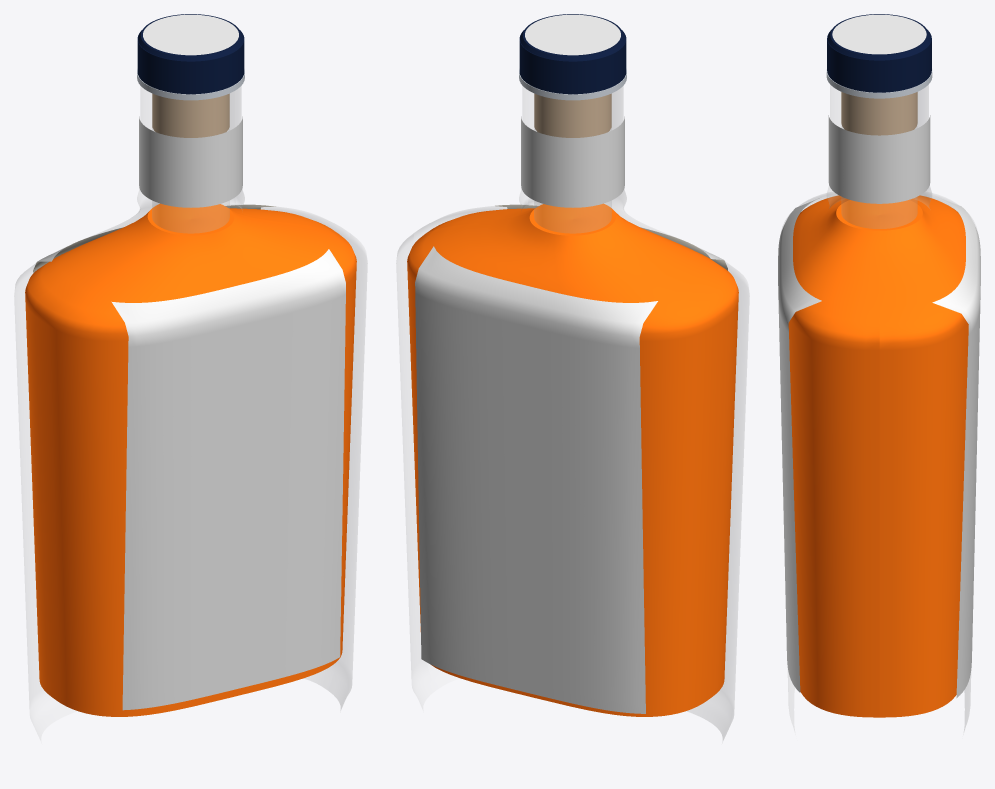
The model's file is patiyala-palace-bottle.glb.
3 views of the same model, side by side, from view 1: azimuth 30°, elevation 25°; view 2: azimuth 150°, elevation 25°; view 3: azimuth 270°, elevation 25° (orthographic). The views are drawn at different scales.
Parts seen in each view (by area): view 1: Front_Label, Whisky_Liquid, Bottle_Glass, Neck_Label, Bottle_Cap, Cap_Crown, Cork_Stopper, Bottle_Cap_Top, Cap_Silver_Rim; view 2: Back_Label, Whisky_Liquid, Bottle_Glass, Neck_Label, Bottle_Cap, Cap_Crown, Cork_Stopper, Bottle_Cap_Top, Cap_Silver_Rim; view 3: Whisky_Liquid, Back_Label, Neck_Label, Bottle_Glass, Front_Label, Bottle_Cap, Cap_Crown, Cork_Stopper, Bottle_Cap_Top, Cap_Silver_Rim.
Part boxes in pixels (x1,y1,x2,y2): Front_Label: (111, 249, 345, 710); Whisky_Liquid: (25, 203, 356, 716); Bottle_Glass: (14, 86, 367, 739); Neck_Label: (139, 116, 242, 207); Bottle_Cap: (137, 30, 244, 94); Cap_Crown: (143, 14, 238, 55); Cork_Stopper: (152, 93, 229, 137); Bottle_Cap_Top: (138, 14, 243, 61); Cap_Silver_Rim: (137, 69, 244, 100); Back_Label: (415, 246, 657, 713); Whisky_Liquid: (407, 203, 738, 716); Bottle_Glass: (396, 86, 749, 739); Neck_Label: (521, 116, 624, 207); Bottle_Cap: (519, 30, 626, 94); Cap_Crown: (525, 14, 620, 55); Cork_Stopper: (534, 93, 611, 137); Bottle_Cap_Top: (520, 14, 625, 61); Cap_Silver_Rim: (519, 69, 626, 100); Whisky_Liquid: (788, 195, 968, 717); Back_Label: (932, 197, 980, 698); Neck_Label: (828, 115, 930, 203); Bottle_Glass: (780, 85, 978, 730); Front_Label: (778, 198, 821, 692); Bottle_Cap: (827, 29, 931, 92); Cap_Crown: (832, 14, 926, 54); Cork_Stopper: (841, 92, 917, 135); Bottle_Cap_Top: (827, 14, 931, 60); Cap_Silver_Rim: (826, 69, 932, 98).
Bounding box in the file's own units: 1.82 × 3.75 × 1.02.
